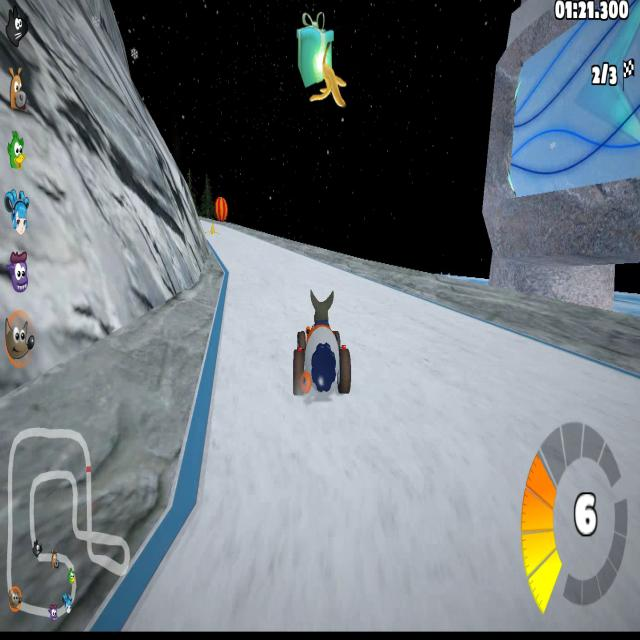player_kart: (288, 301, 351, 403)
track: (208, 405, 640, 640), (460, 341, 640, 441), (352, 300, 461, 408), (224, 289, 288, 407), (296, 257, 388, 300), (168, 552, 214, 634), (229, 248, 297, 299), (215, 232, 262, 248)
